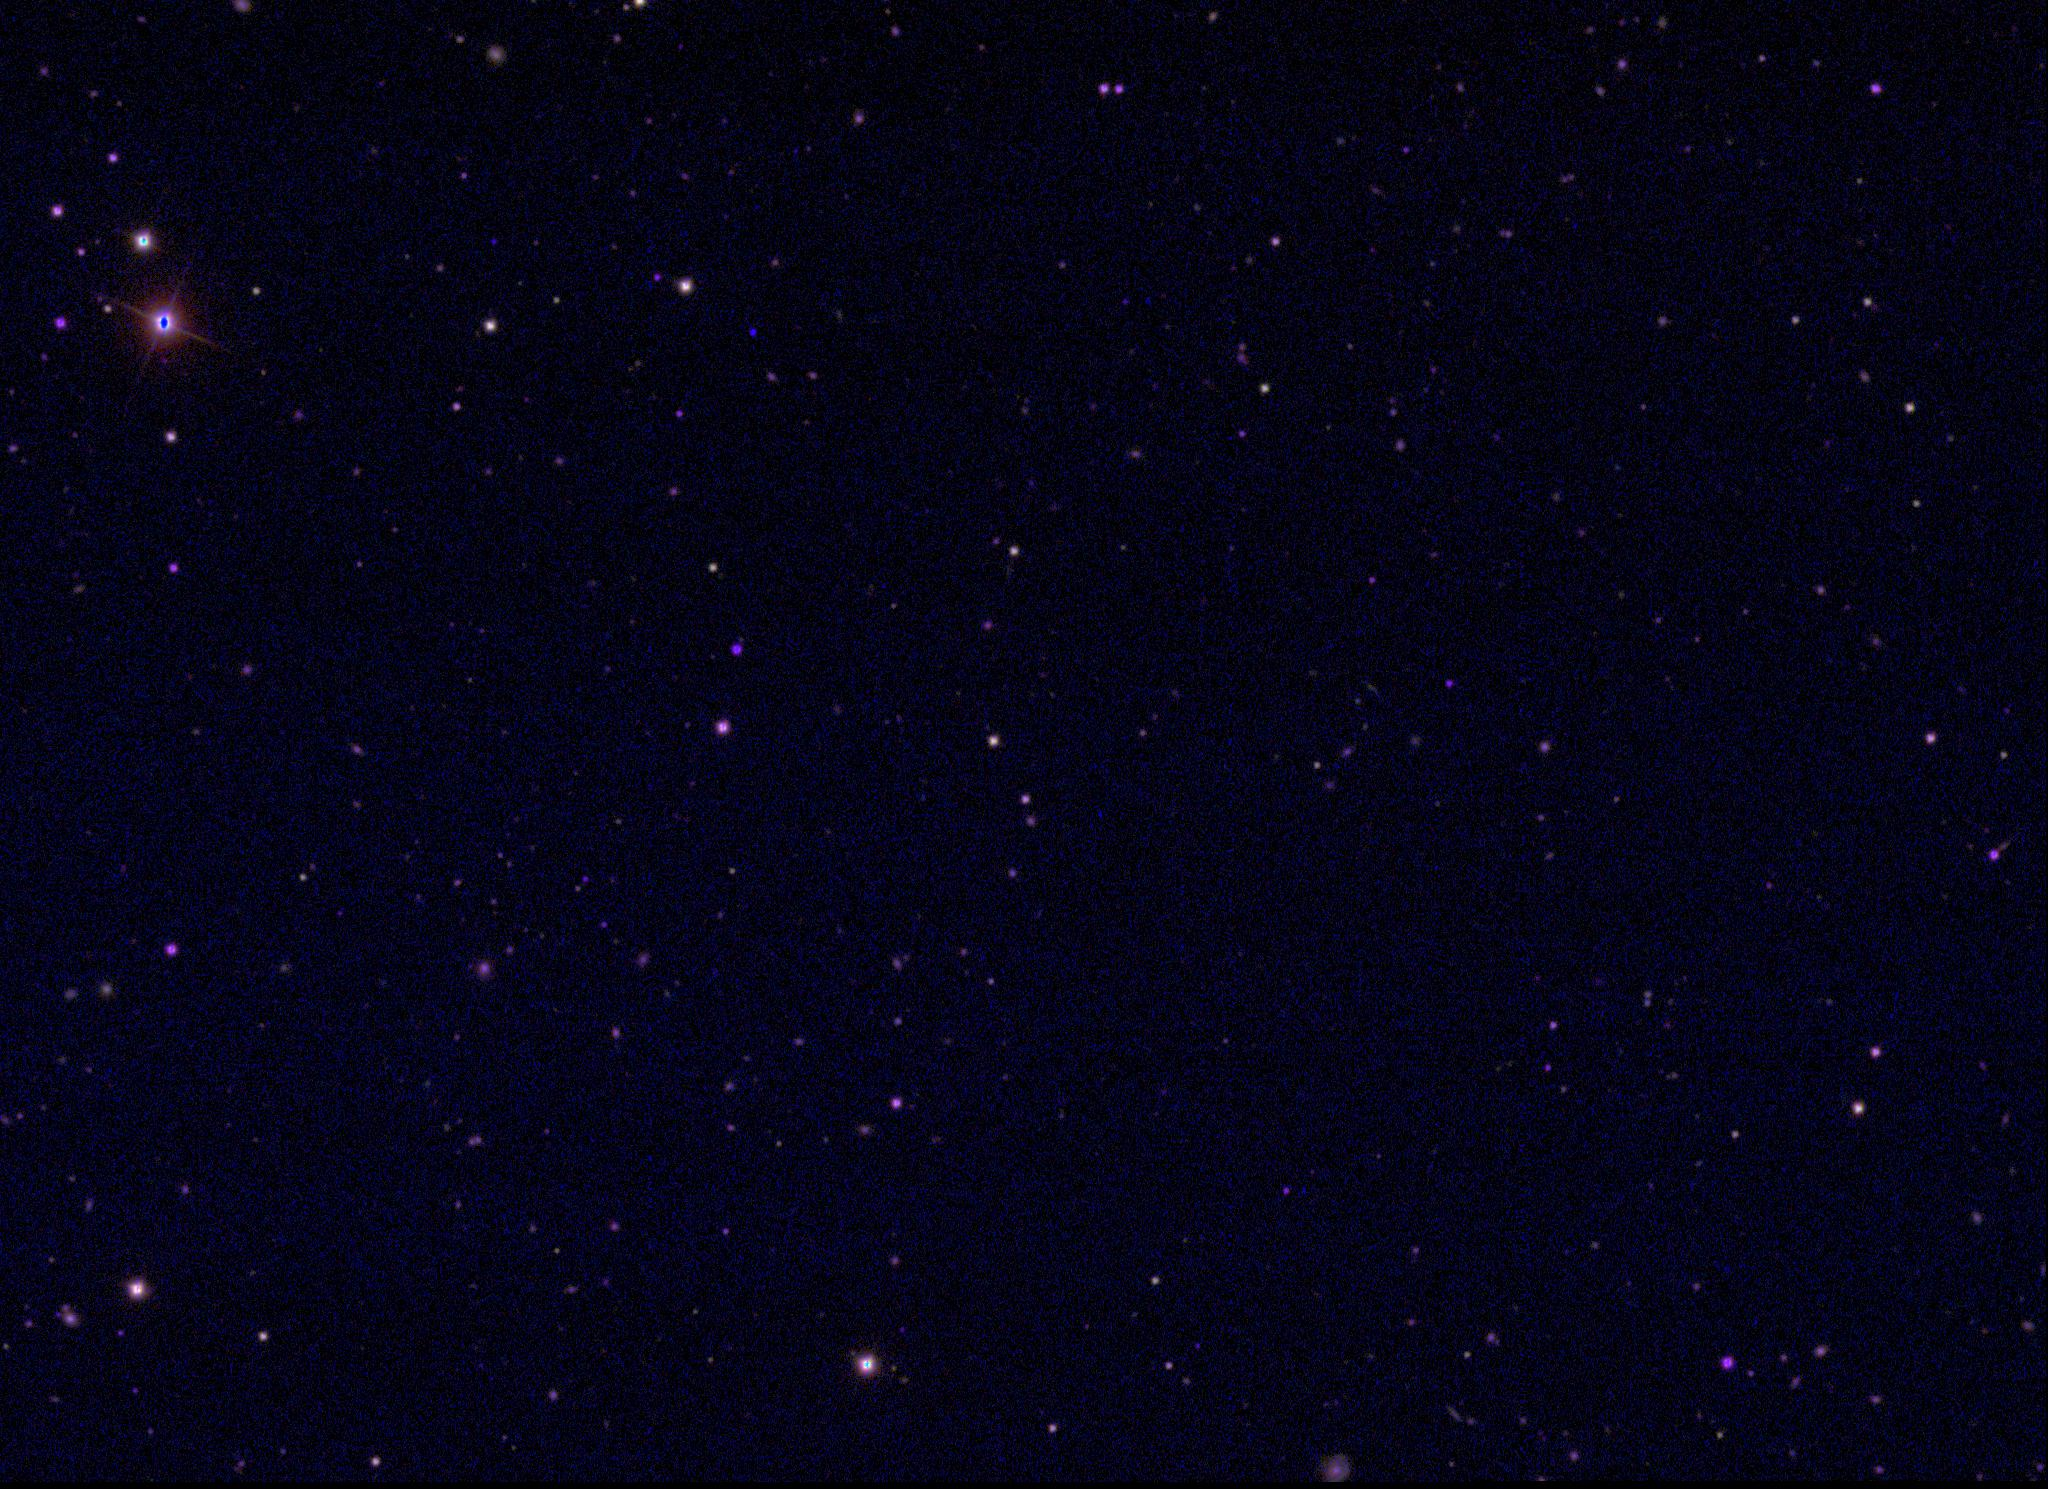L: (746, 320, 760, 334)
